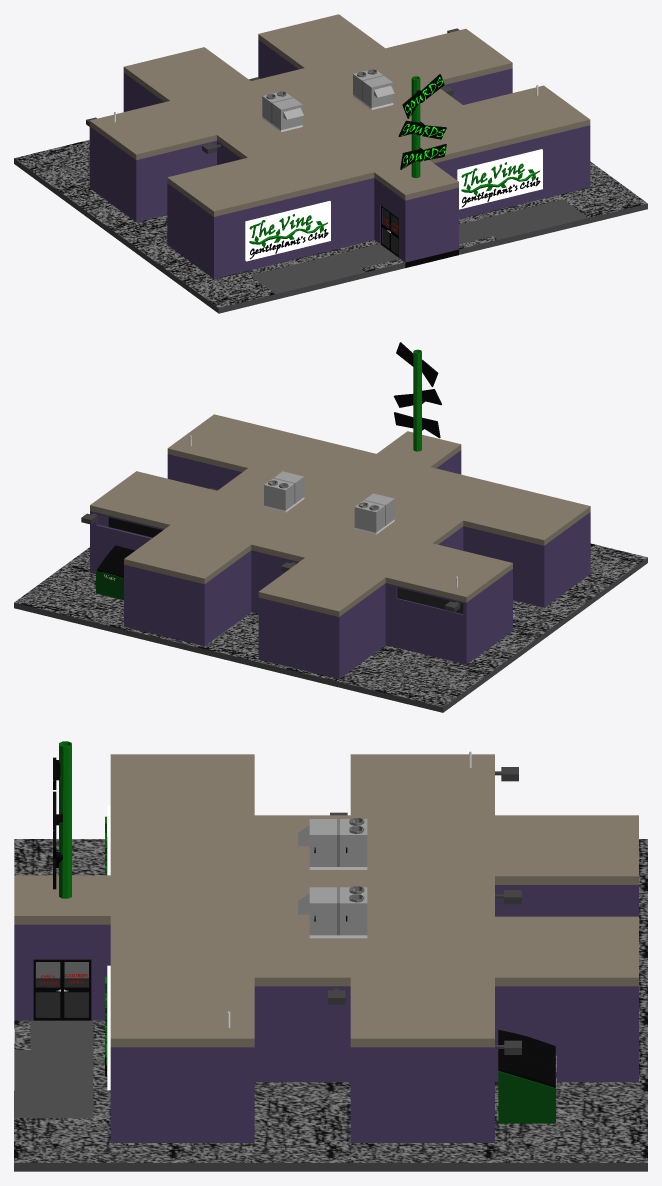
File: The Vine.glb
3 renders of one model, top to bottom at view 1: azimuth 30°, elevation 25°; view 2: azimuth 150°, elevation 25°; view 3: azimuth 270°, elevation 25°, orthographic. The views are drawn at different scales.
Parts seen in each view (by area): view 1: Roof, Exterior Walls, Ground, Sign.001, Sign, RTUs, Sign Roof, Door, Floor; view 2: Roof, Exterior Walls, Ground, RTUs, Sign Roof, Dumpster, Windows; view 3: Roof, Exterior Walls, Ground, RTUs, Dumpster, Door, Sign Roof, Floor, Lights Ext.004, Sign.
Boxes of the visible parts, x1,y1,x2,y2 form: Roof: (89, 14, 590, 216); Exterior Walls: (89, 40, 590, 278); Ground: (14, 140, 647, 313); Sign.001: (245, 201, 330, 261); Sign: (457, 149, 542, 209); RTUs: (262, 69, 394, 131); Sign Roof: (398, 74, 446, 177); Door: (381, 205, 398, 257); Floor: (221, 234, 458, 277); Roof: (90, 414, 590, 616); Exterior Walls: (90, 450, 590, 678); Ground: (14, 543, 647, 712); RTUs: (264, 471, 395, 534); Sign Roof: (393, 342, 441, 451); Dumpster: (96, 545, 135, 600); Windows: (97, 514, 463, 613); Roof: (14, 754, 638, 1047); Exterior Walls: (14, 885, 638, 1142); Ground: (14, 839, 647, 1171); RTUs: (298, 817, 367, 938); Dumpster: (498, 1029, 556, 1123); Door: (33, 959, 91, 1020); Sign Roof: (53, 741, 71, 898); Floor: (14, 981, 88, 1028); Lights Ext.004: (328, 767, 521, 1054); Sign: (105, 965, 110, 1090).
Size of what is drawn, in the model's own units: 24.31 by 9.36 by 20.11.
32 materials, 1 textured.
